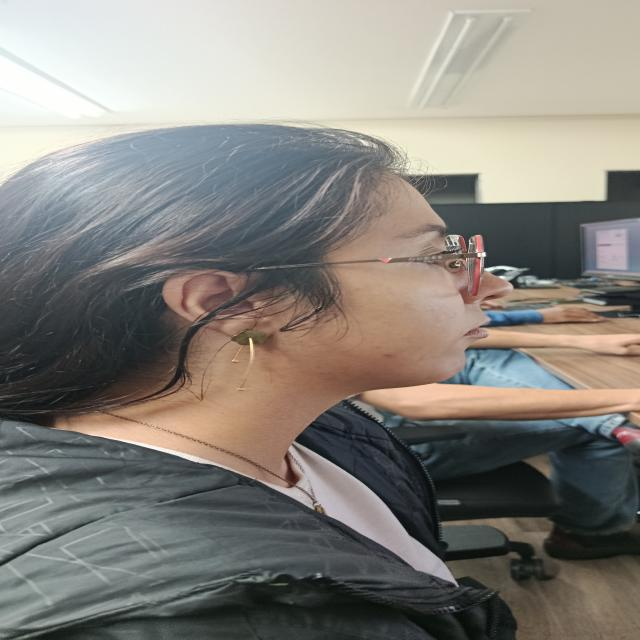sem_oculos: (327, 234, 486, 296), (254, 263, 325, 271)
